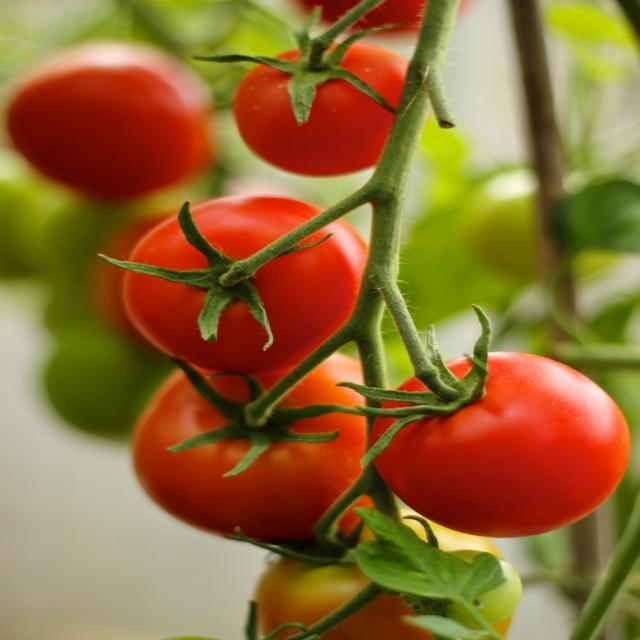Tomato: (129, 356, 381, 556), (98, 196, 364, 376), (370, 353, 628, 538), (189, 0, 408, 179), (222, 524, 519, 640), (10, 51, 206, 207), (295, 0, 475, 38)
